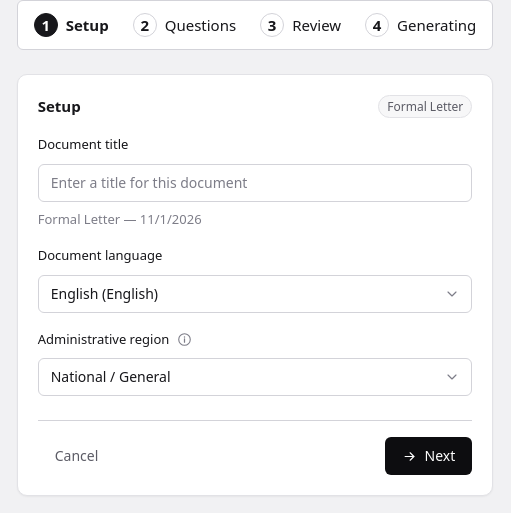
Test: GuidedFlowWizard › renders setup step and navigates to questions
This screenshot has width=511, height=513.
Expected: the heading "Setup" is shown, top-left (38, 97), bottom-right (81, 116)
Expected: the field labelled "Document title" is shown, top-left (38, 164), bottom-right (472, 202)
What coordinates should you click on to do the following:
click the button "Next"
I would click on:
 (428, 456)
Its box is top-left (385, 437), bottom-right (472, 475).
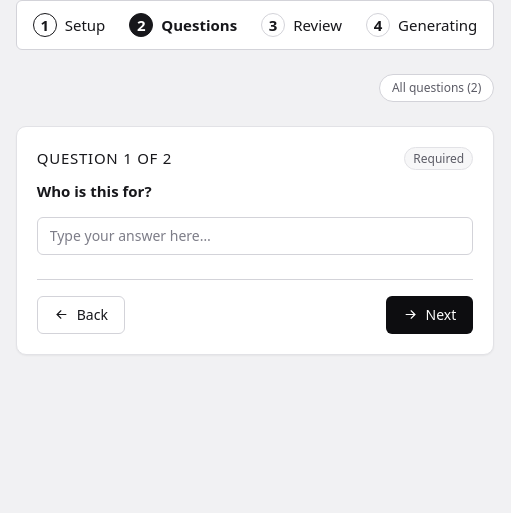
Expected: the heading "Who is this for?" is shown, top-left (37, 181), bottom-right (152, 201)
